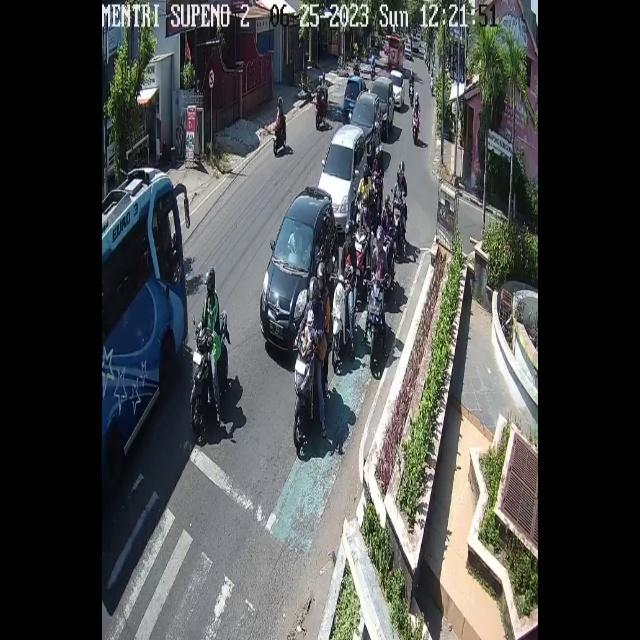bus: (190, 310, 228, 432), (293, 336, 315, 447), (332, 273, 351, 368), (366, 280, 384, 372), (354, 231, 367, 294), (392, 196, 405, 258), (273, 113, 287, 156), (384, 230, 394, 288), (315, 93, 328, 130), (412, 112, 421, 145), (355, 200, 364, 226), (371, 171, 382, 191), (409, 83, 414, 105), (430, 76, 434, 95)
car: (102, 168, 187, 488), (386, 33, 404, 70)
motorcycle: (260, 185, 339, 353), (318, 124, 368, 233), (350, 90, 380, 159), (371, 76, 395, 139), (344, 76, 368, 111), (389, 70, 405, 108)
